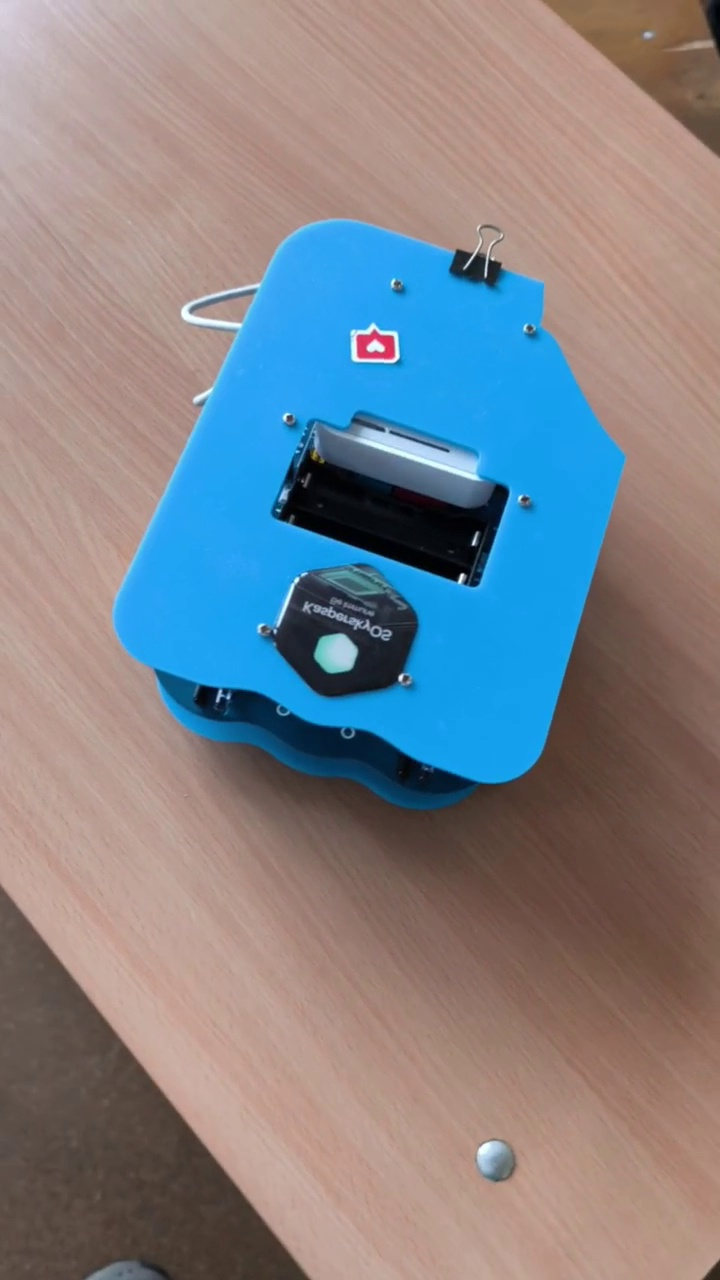robot: (110, 215, 629, 818)
